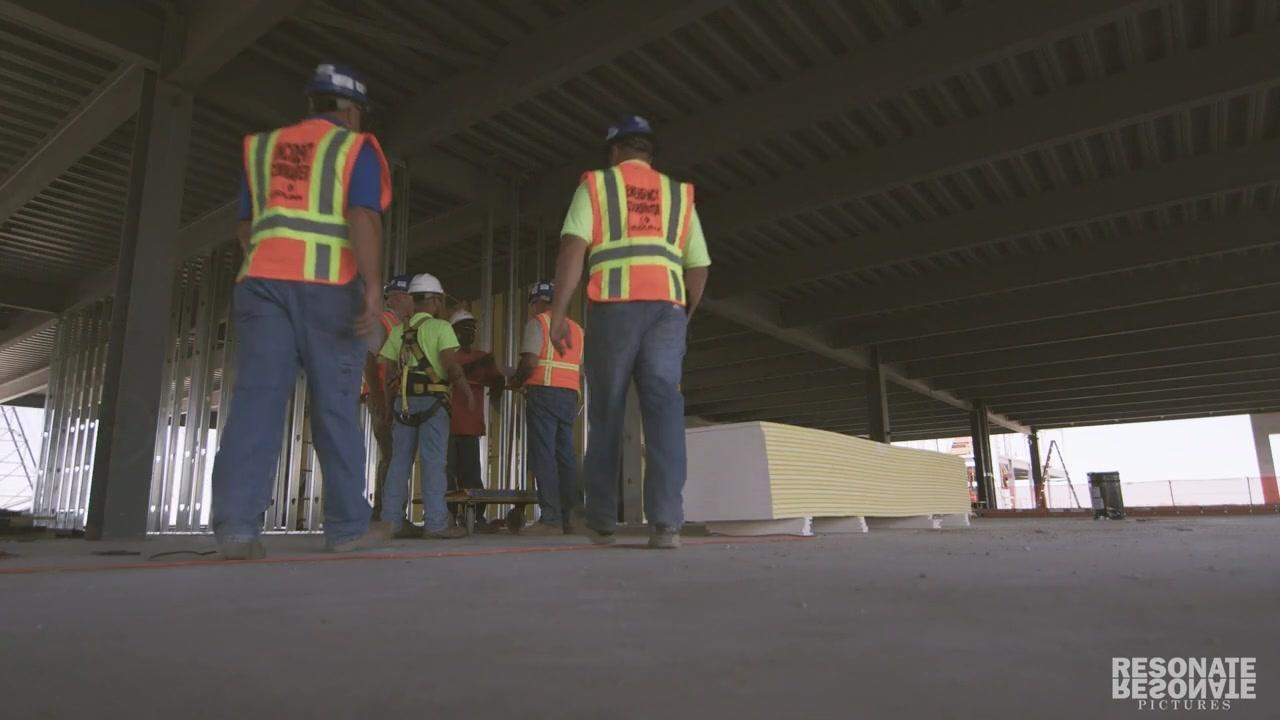Boots: (305, 54, 384, 101), (599, 107, 674, 153)
Glass: (233, 115, 386, 285), (579, 130, 696, 309)
